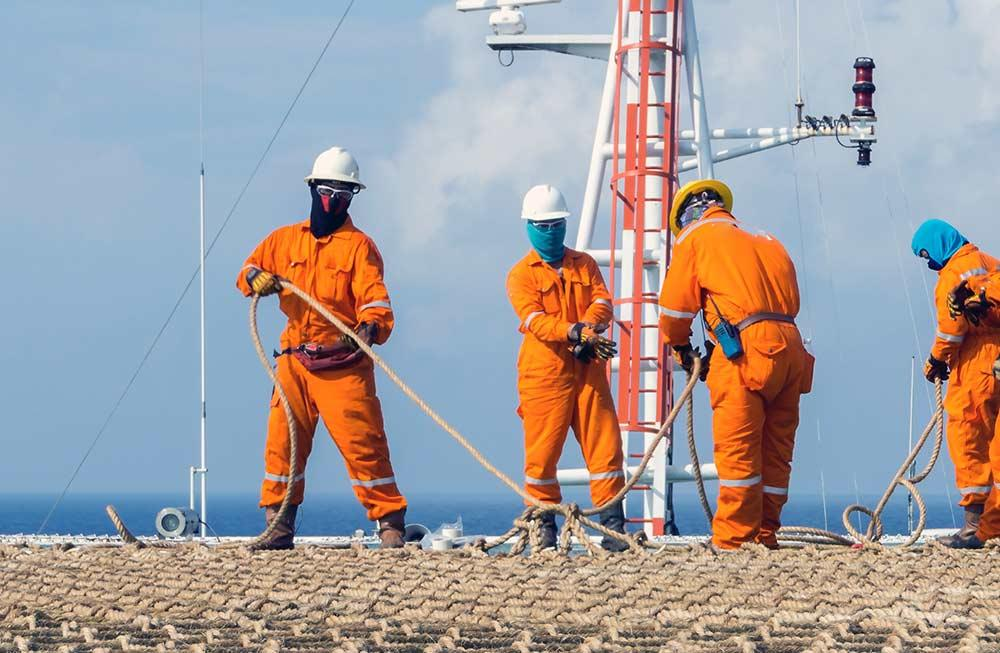helmet: (303, 147, 368, 191), (521, 183, 573, 224)
